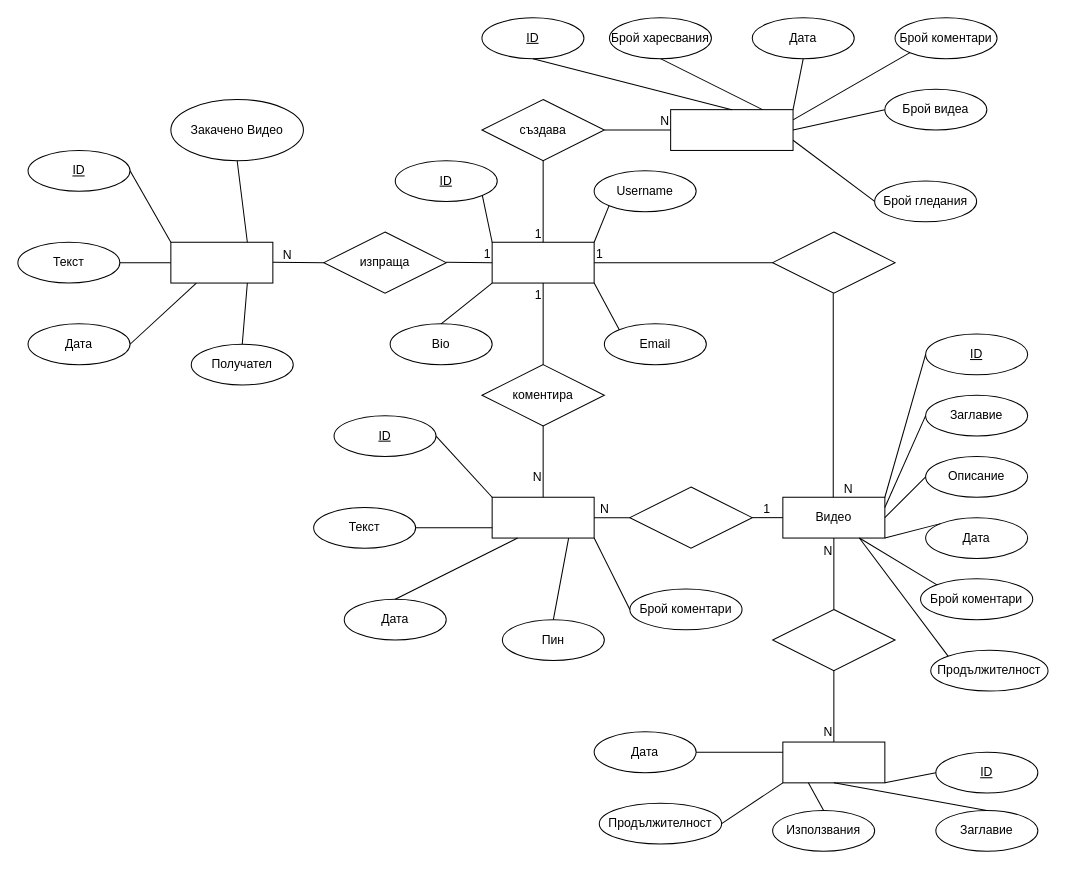
The diagram is 1066 pixels wide and 869 high, and some of its shapes have lost their labels. Here are the shapes that lost their labels. From the top down, the box of each, then its label:
(670, 109, 793, 150): Отчет за активност
(170, 241, 273, 283): Съобщение
(491, 241, 594, 283): Потребител
(772, 231, 895, 293): качва
(491, 496, 594, 538): Коментар
(629, 486, 752, 548): е върху
(772, 608, 895, 671): съдържа
(782, 741, 885, 783): Аудио
